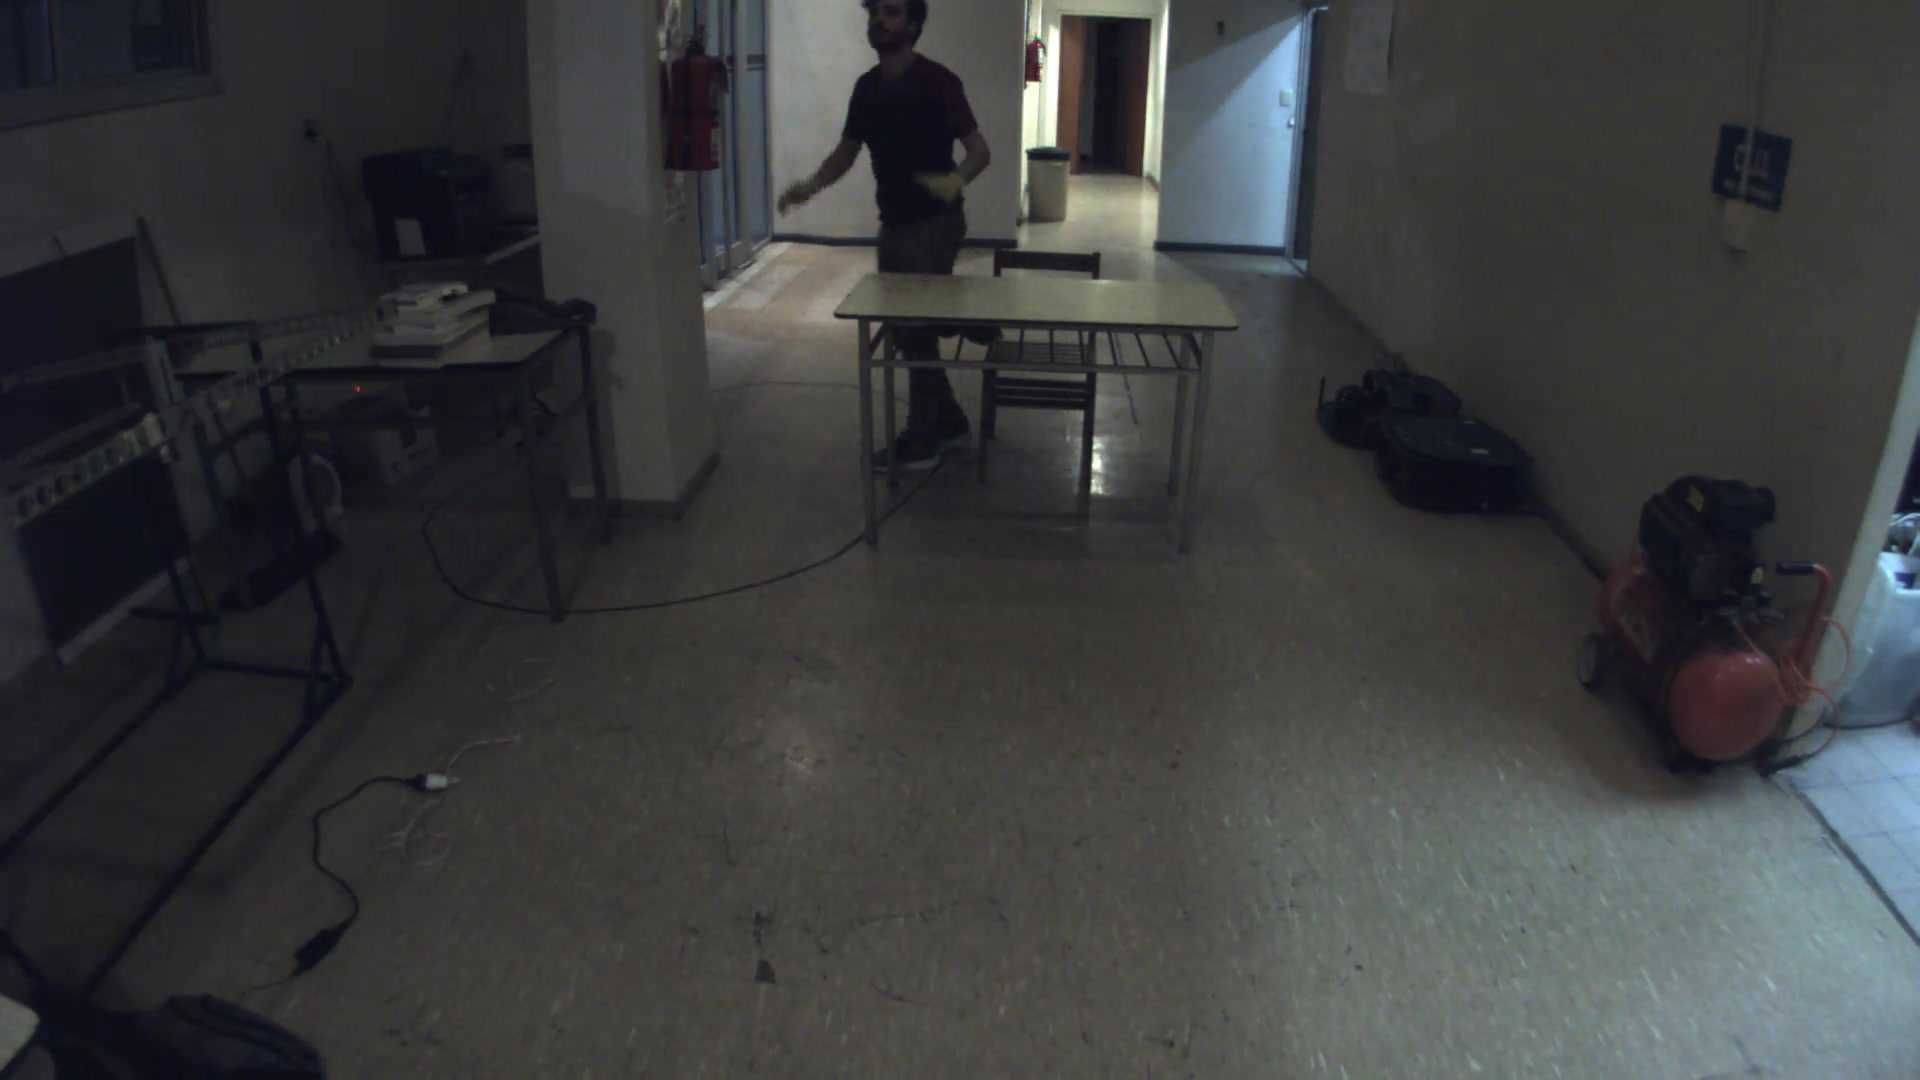hand: (773, 165, 843, 237), (918, 158, 978, 214)
